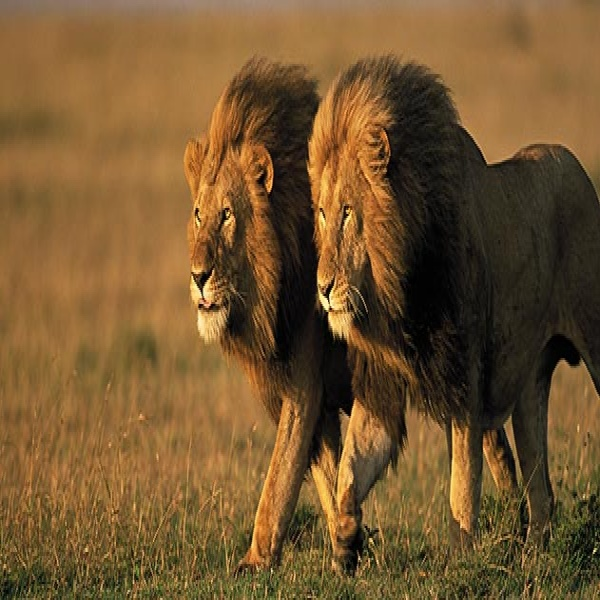Lion: (305, 54, 600, 571), (180, 56, 351, 568)
